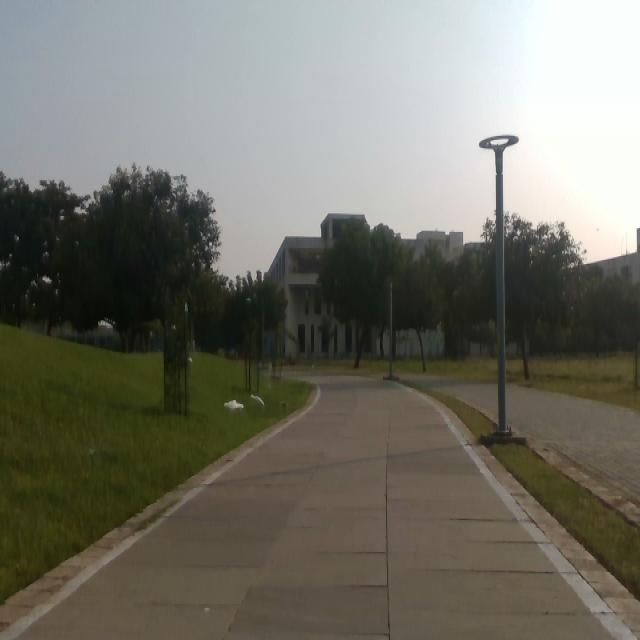lane: (21, 374, 618, 640)
